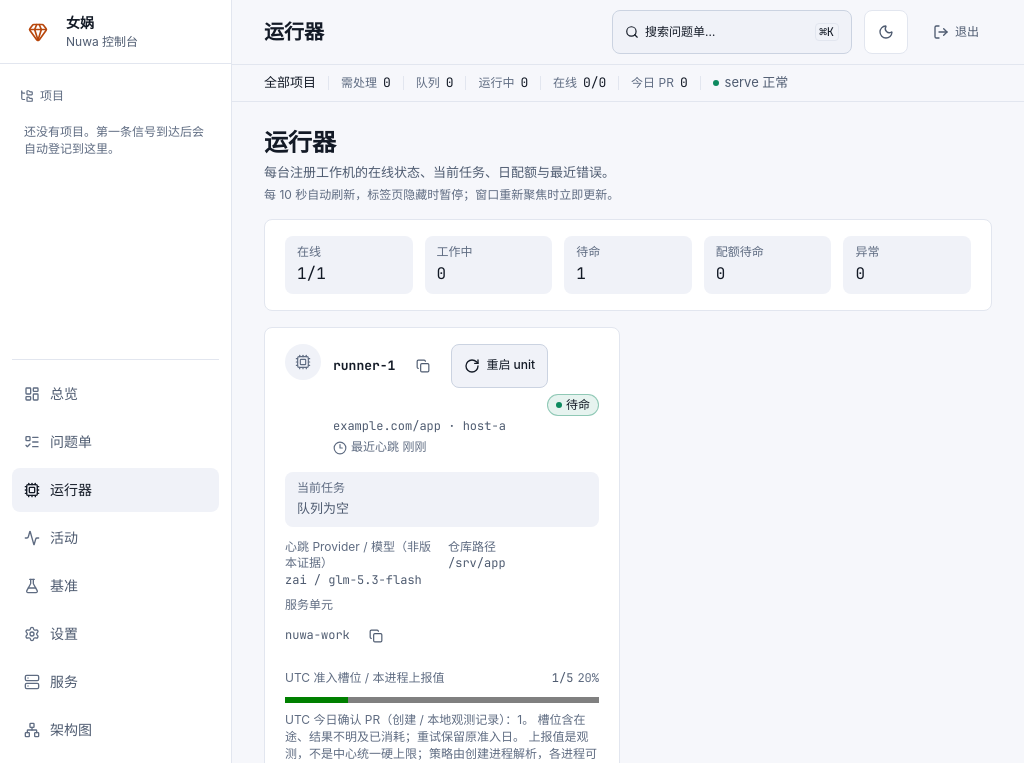
Test: RestartRunnerButton › cancels without posting
Click the button with aria-label "重启 unit：runner-1": (500, 366) [451,344,548,388]
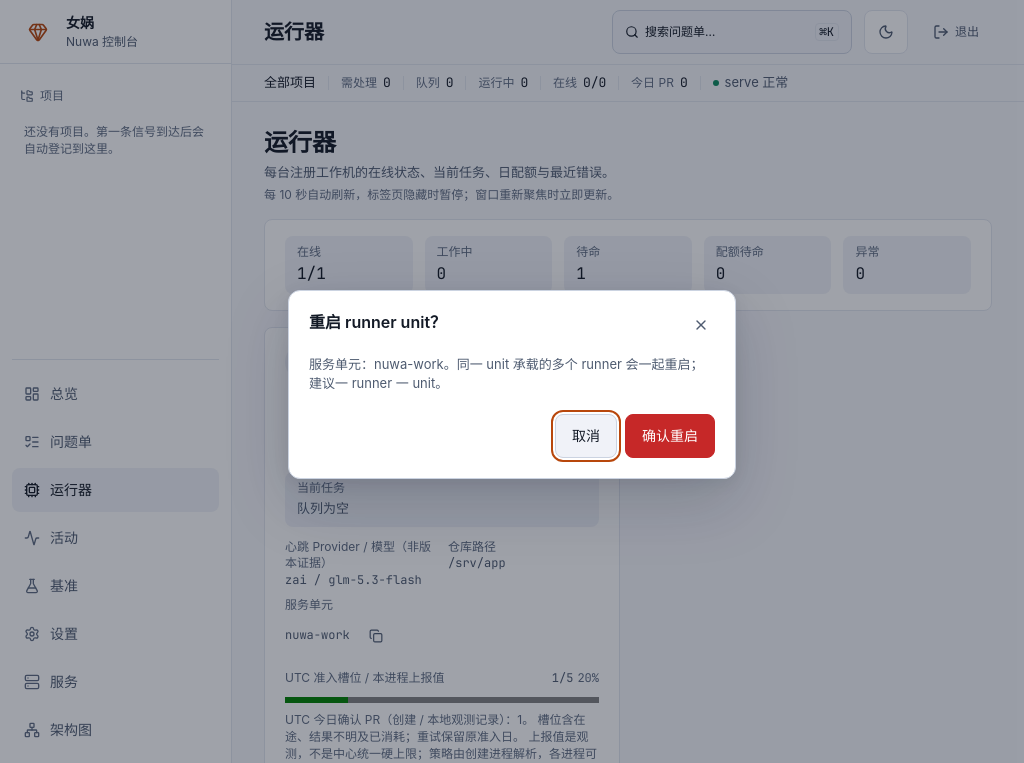
Click the button "取消": (586, 436) [555,414,617,458]
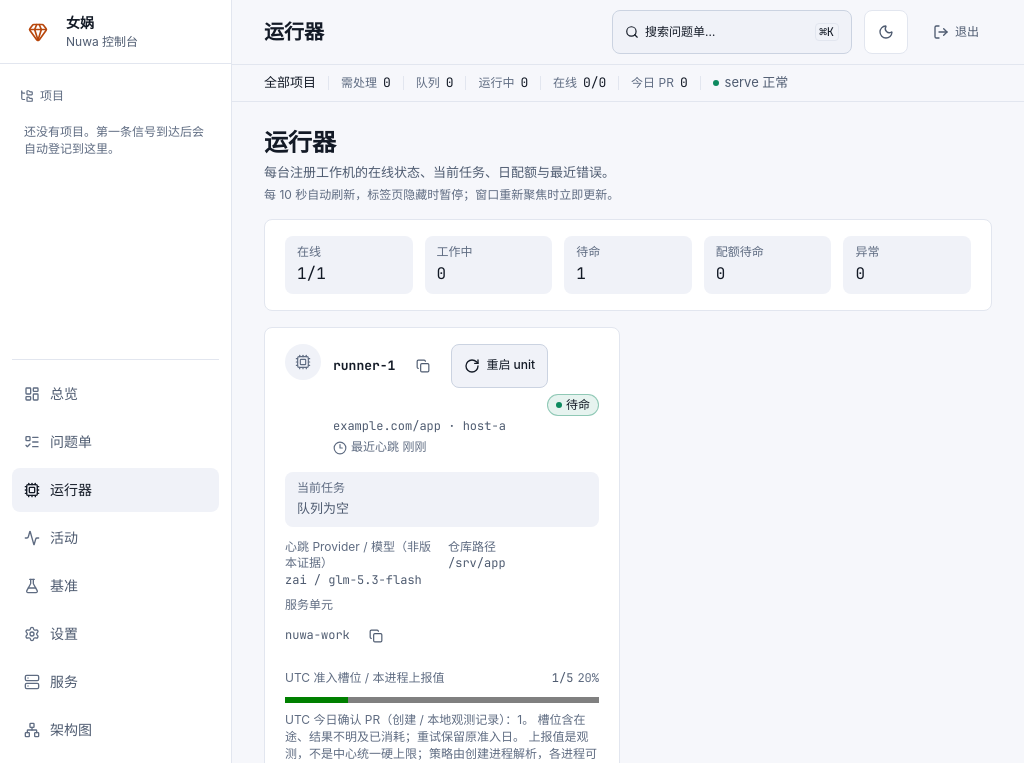
Now the dialog is gone
